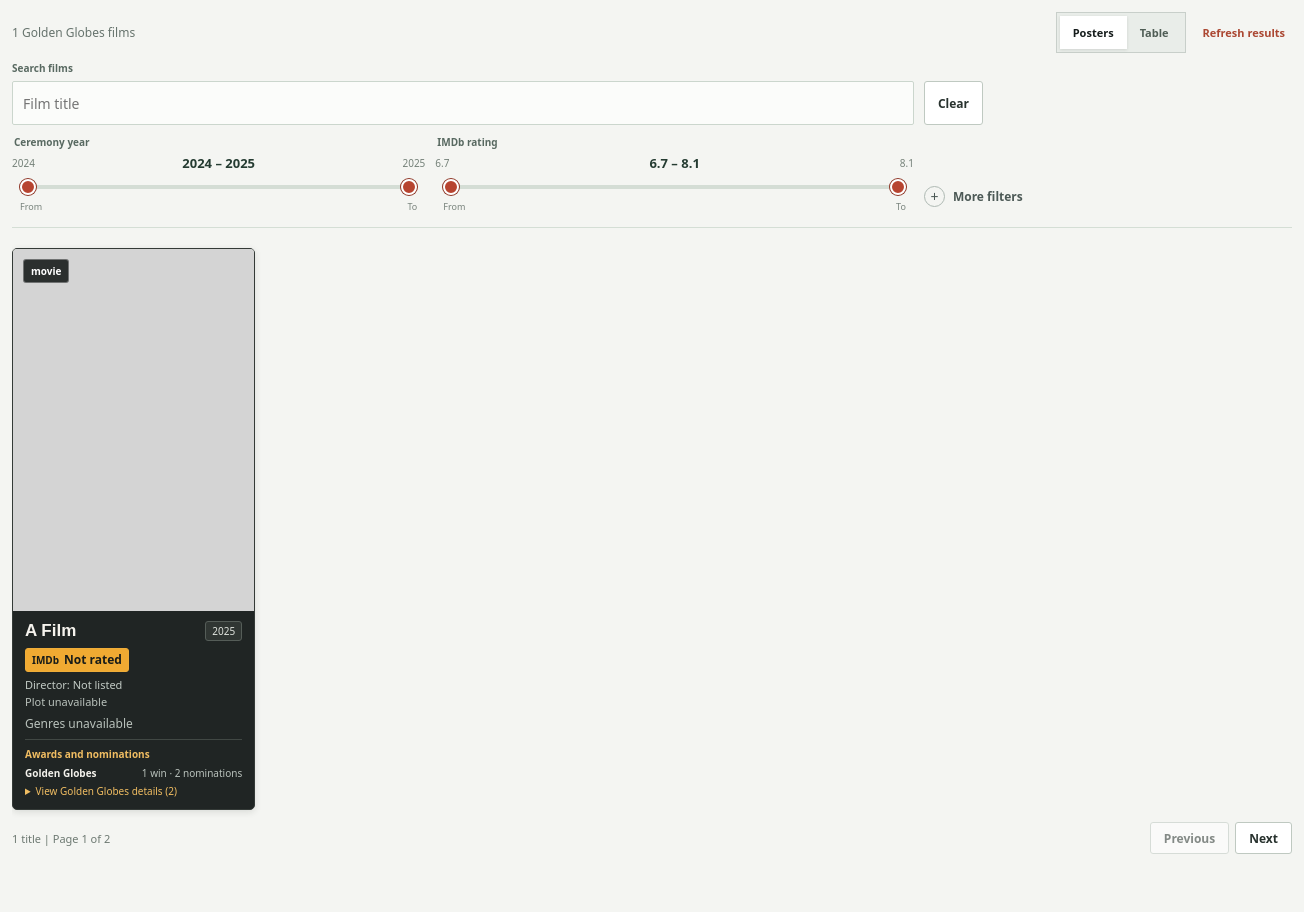
Test case: GoldenGlobeCatalogView › applies a touch-released ceremony year range while preserving applied filters
The image size is (1304, 912).
Expected: the button "A Film" is shown, [25,621,197,642]
Step 1. Type "A Film" into the search field labelled "Search films" → (463, 103), box [12,81,914,125]
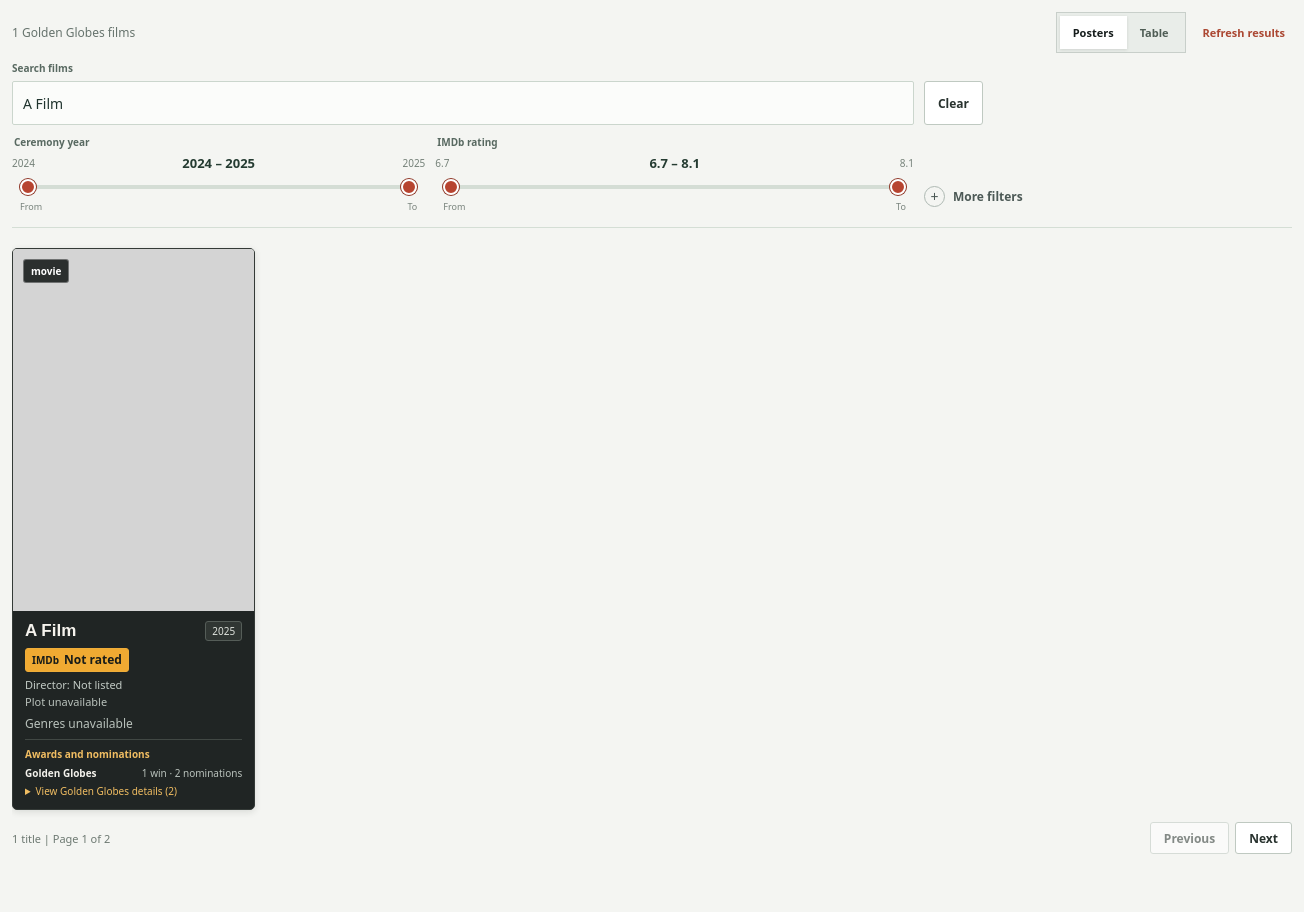
Step 2. Click the button with aria-label "Next page" → (1264, 838), box [1235,822,1292,854]
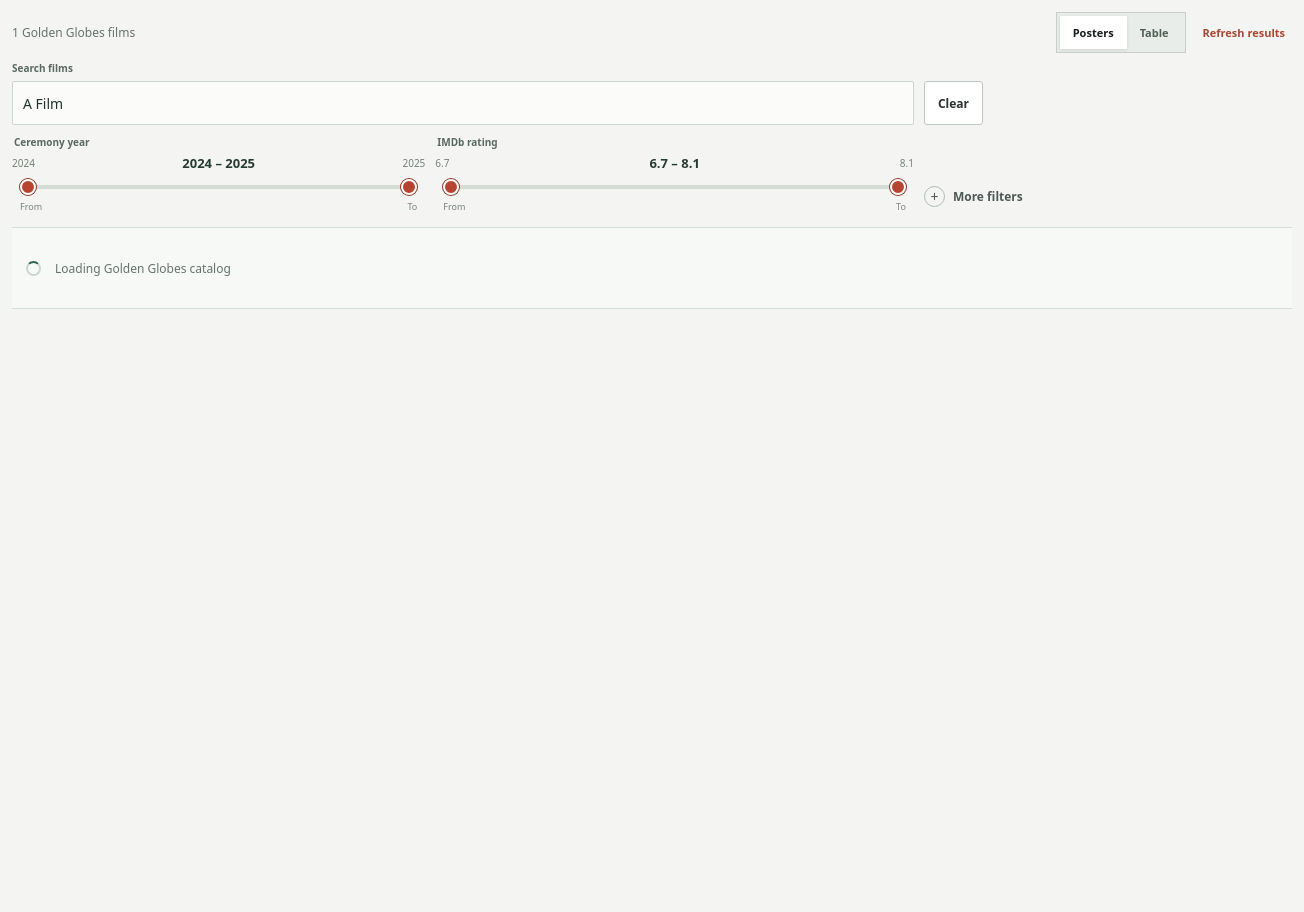
Step 3. Replace the text in the search field labelled "Search films" with "Unsubmitted search" → (463, 103), box [12,81,914,125]
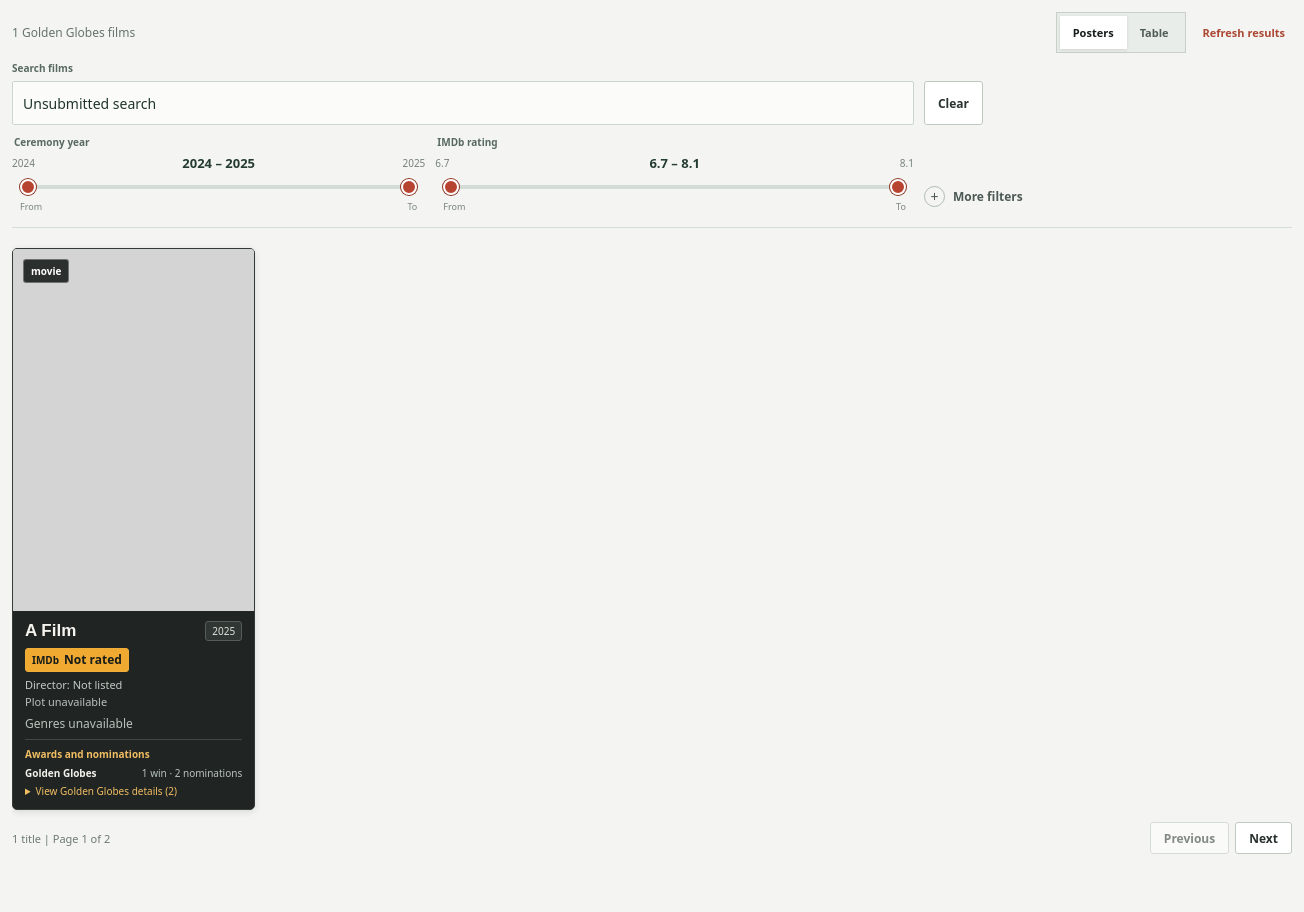
Step 4. Set the slider named "Ceremony year maximum" to "2024" → (28, 187), box [20,174,417,200]
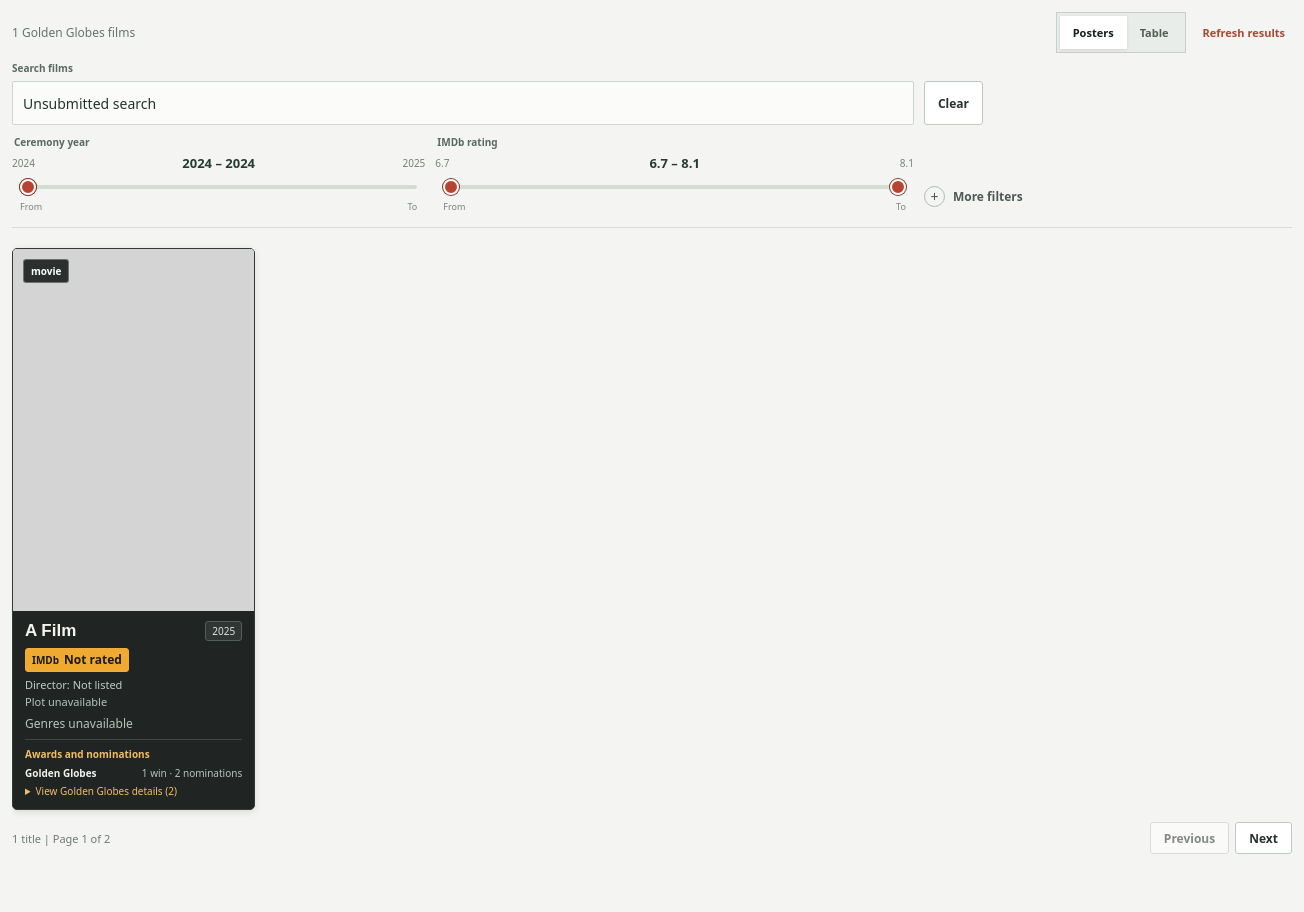
Expected: the text "2024 – 2024" is shown, [182,154,255,172]
